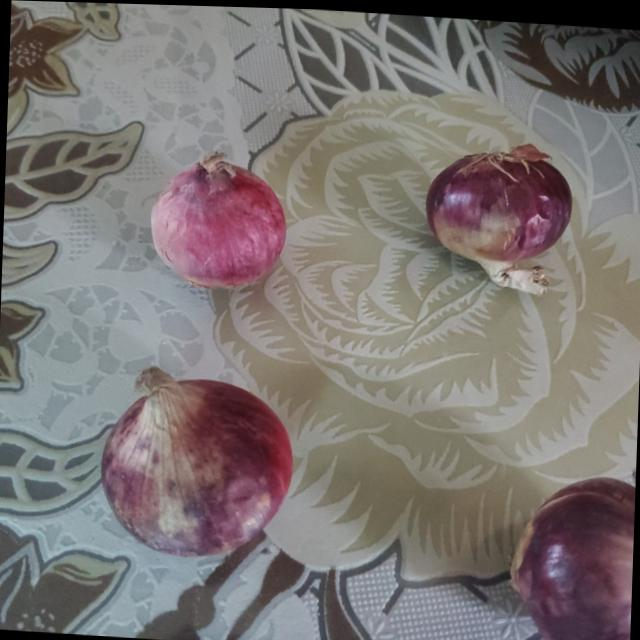onion: (98, 368, 296, 555), (506, 470, 633, 640), (152, 152, 291, 293), (424, 139, 573, 263)
